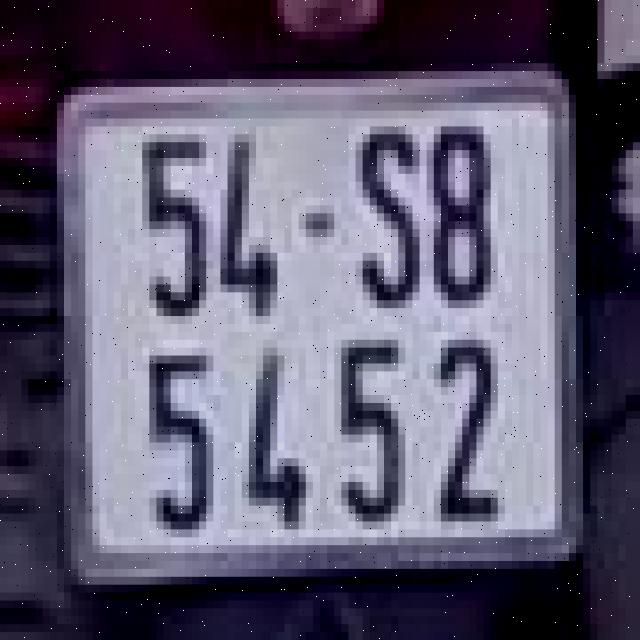2: (423, 328, 523, 533)
4: (231, 336, 317, 533), (217, 122, 288, 328)
5: (131, 336, 217, 541), (132, 126, 210, 324), (338, 324, 409, 529)
8: (427, 119, 498, 308)
S: (348, 115, 426, 320)
